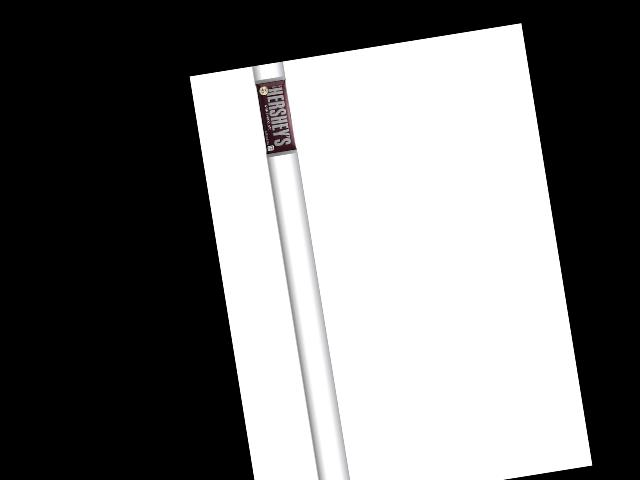chocolate: (251, 77, 296, 158)
